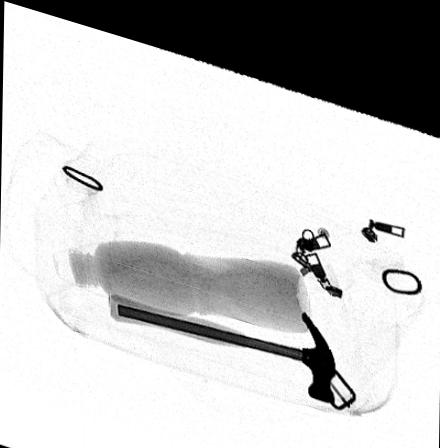Hammer: (109, 285, 337, 383)
